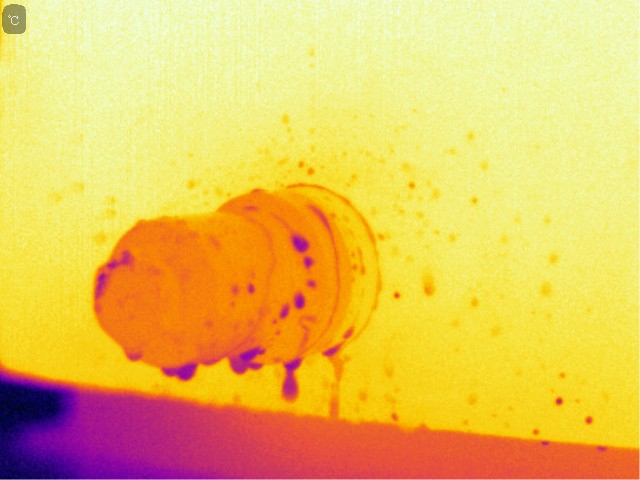Water: (277, 353, 306, 402), (224, 346, 267, 376), (326, 363, 344, 418), (310, 202, 335, 237), (160, 362, 200, 381), (288, 233, 313, 258), (319, 339, 345, 359), (286, 289, 308, 312), (122, 345, 146, 364), (276, 299, 293, 320), (299, 255, 321, 269), (302, 277, 321, 293), (551, 394, 567, 413), (247, 183, 270, 196), (342, 324, 359, 340), (388, 289, 404, 301), (583, 413, 594, 427)
